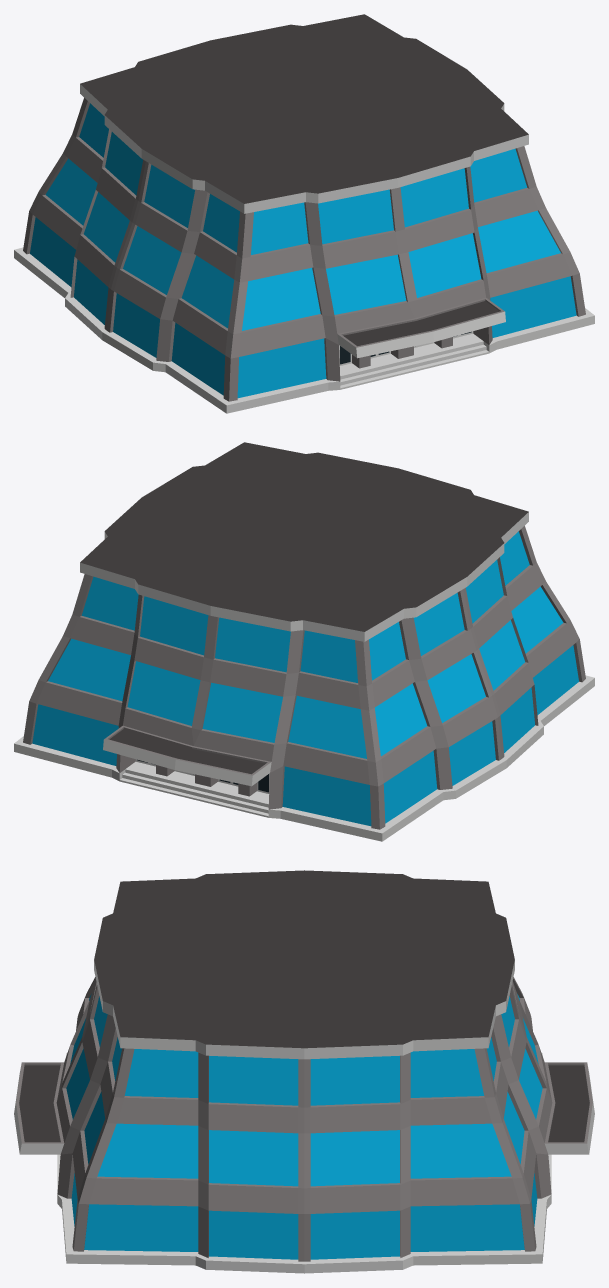
The model's file is Building_9.fbx.
The picture shows the model from 3 angles, top to bottom: view 1: azimuth 30°, elevation 25°; view 2: azimuth 150°, elevation 25°; view 3: azimuth 270°, elevation 25°; orthographic projection. The views are drawn at different scales.
Visible parts, largest first — view 1: skyscraper2-part-bottom; view 2: skyscraper2-part-bottom; view 3: skyscraper2-part-bottom.
Boxes of the visible parts, <box> form: skyscraper2-part-bottom: <box>14,14,594,413</box>; skyscraper2-part-bottom: <box>14,442,594,841</box>; skyscraper2-part-bottom: <box>14,870,594,1273</box>.
Bounding box in the file's own units: 3.88 × 1.67 × 4.31.
